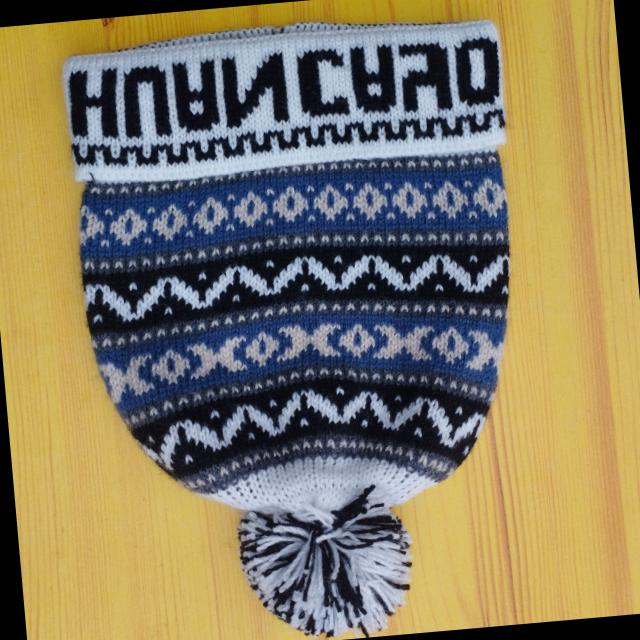Gorro: (58, 5, 551, 640)
